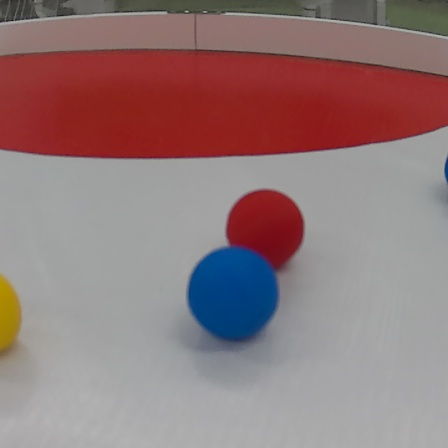blue: (187, 242, 280, 345)
red: (219, 185, 314, 264)
red_base: (1, 44, 448, 160)
yellow: (0, 264, 21, 362)
